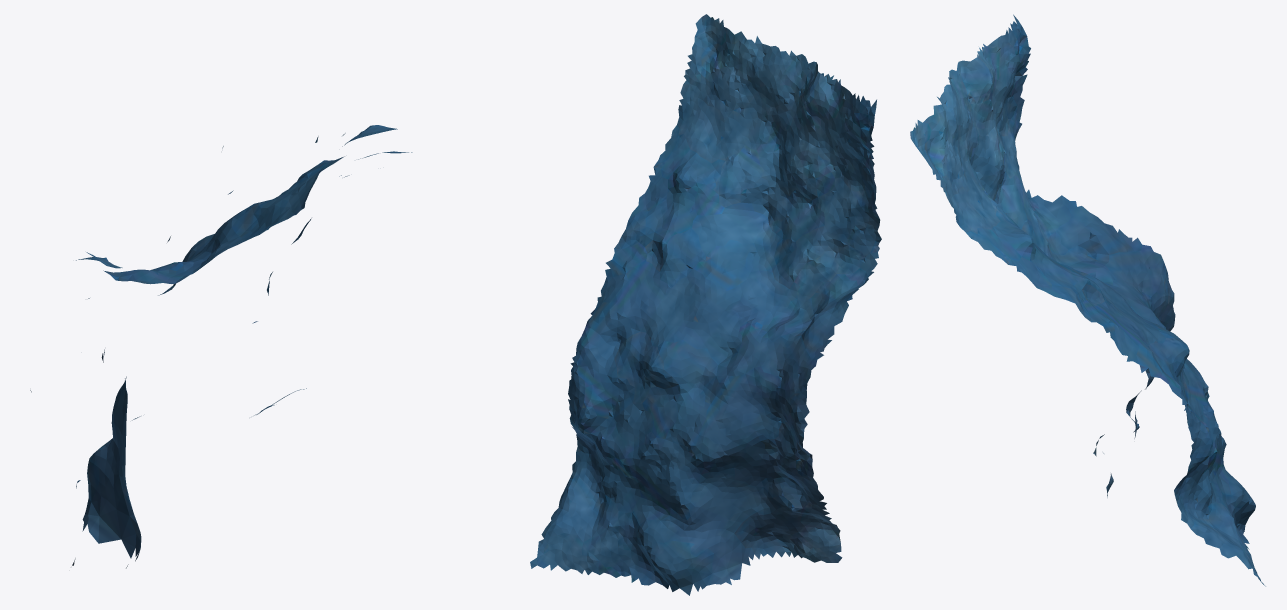
Rendered from tile_0500.gltf.
3 renders of one model, left to right at view 1: azimuth 30°, elevation 25°; view 2: azimuth 150°, elevation 25°; view 3: azimuth 270°, elevation 25°, orthographic. The views are drawn at different scales.
Visible parts, largest first — view 1: defaultobject; view 2: defaultobject; view 3: defaultobject.
Boxes of the visible parts, x1=… form: defaultobject: x1=30, y1=125, x2=412, y2=568; defaultobject: x1=530, y1=14, x2=881, y2=595; defaultobject: x1=910, y1=14, x2=1265, y2=586.
Bounding box in the file's own units: 0.2956 × 0.5306 × 0.3718.
2 materials, 2 textured.
